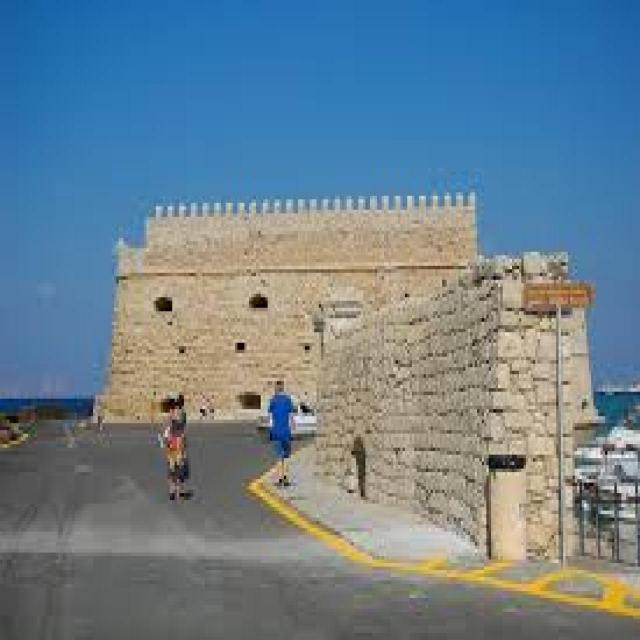Kules: (94, 197, 478, 425)
